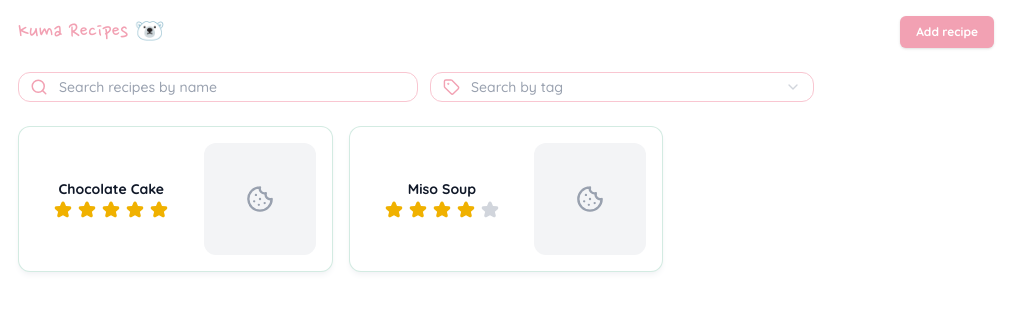
Test: App recipe search › shows a "no matches" empty state when search yields no results
The image size is (1011, 329).
Type "nonexistent recipe" into the search field with placeholder "Search recipes by name".
click(218, 87); type("nonexistent recipe")  # box [18,72,418,102]
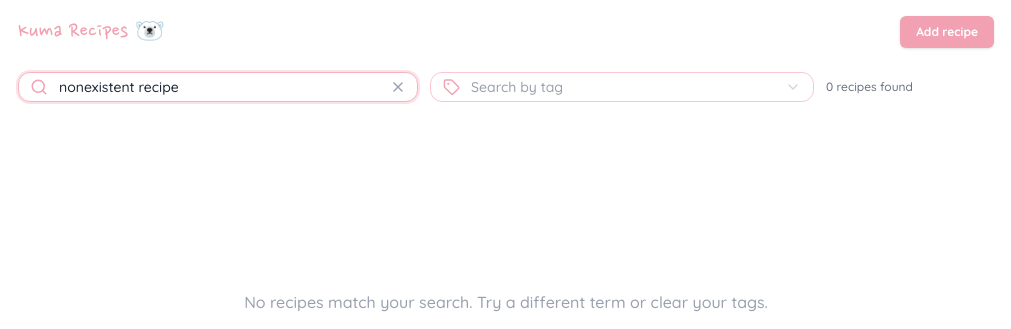
Now the text "No recipes match your search" is shown, box [244,292,768,312]
Now the link "Chocolate Cake" is gone
